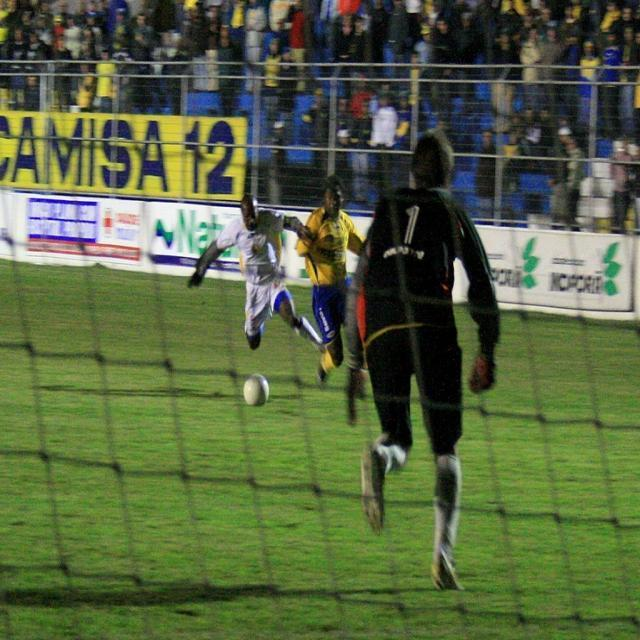football: (223, 353, 286, 433)
